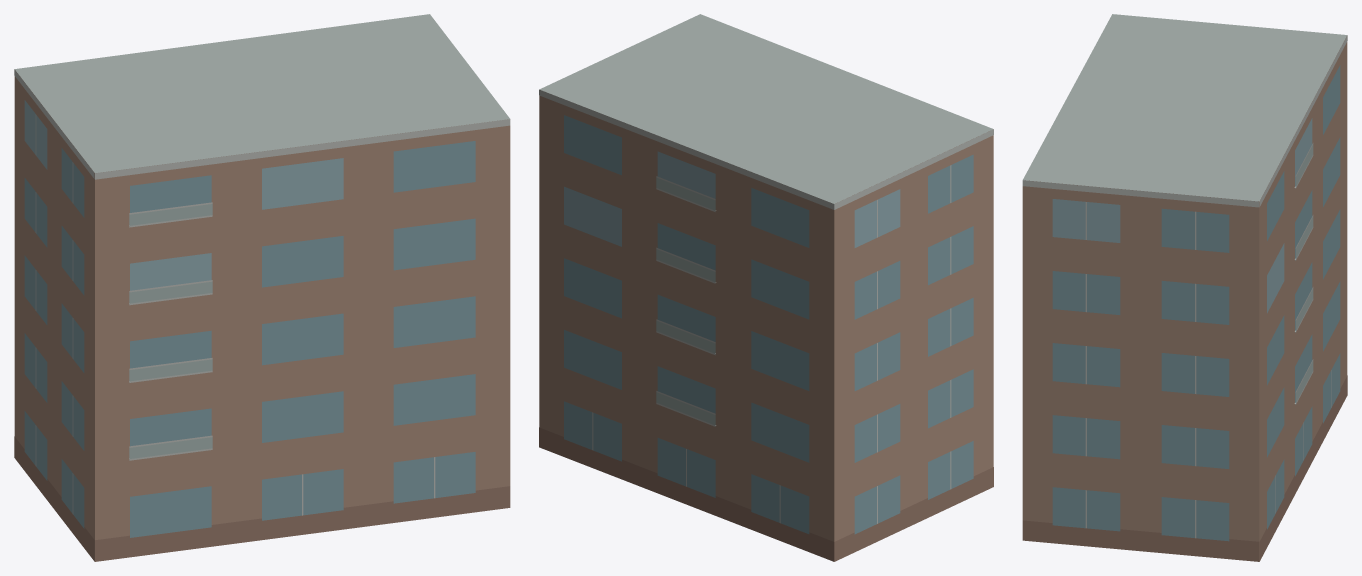
Rendered from survey-upis-33016581.glb.
The picture shows the model from 3 angles, left to right: view 1: azimuth 30°, elevation 25°; view 2: azimuth 150°, elevation 25°; view 3: azimuth 270°, elevation 25°; orthographic projection. The views are drawn at different scales.
Visible parts, largest first — view 1: survey-upis-33016581.tmp; view 2: survey-upis-33016581.tmp; view 3: survey-upis-33016581.tmp.
Boxes of the visible parts, x1,y1,x2,y2 form: survey-upis-33016581.tmp: (14, 14, 510, 561); survey-upis-33016581.tmp: (539, 14, 993, 561); survey-upis-33016581.tmp: (1022, 14, 1347, 561).
Size of the model in its own units: 16.3 by 14.6 by 11.94.
